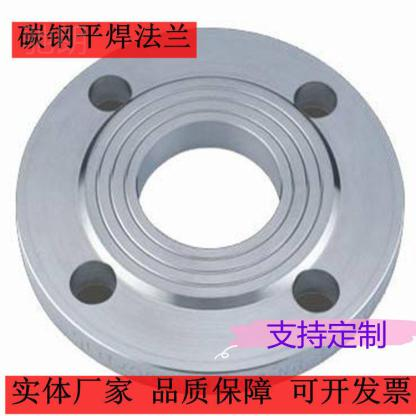FOD: (10, 22, 411, 385)
